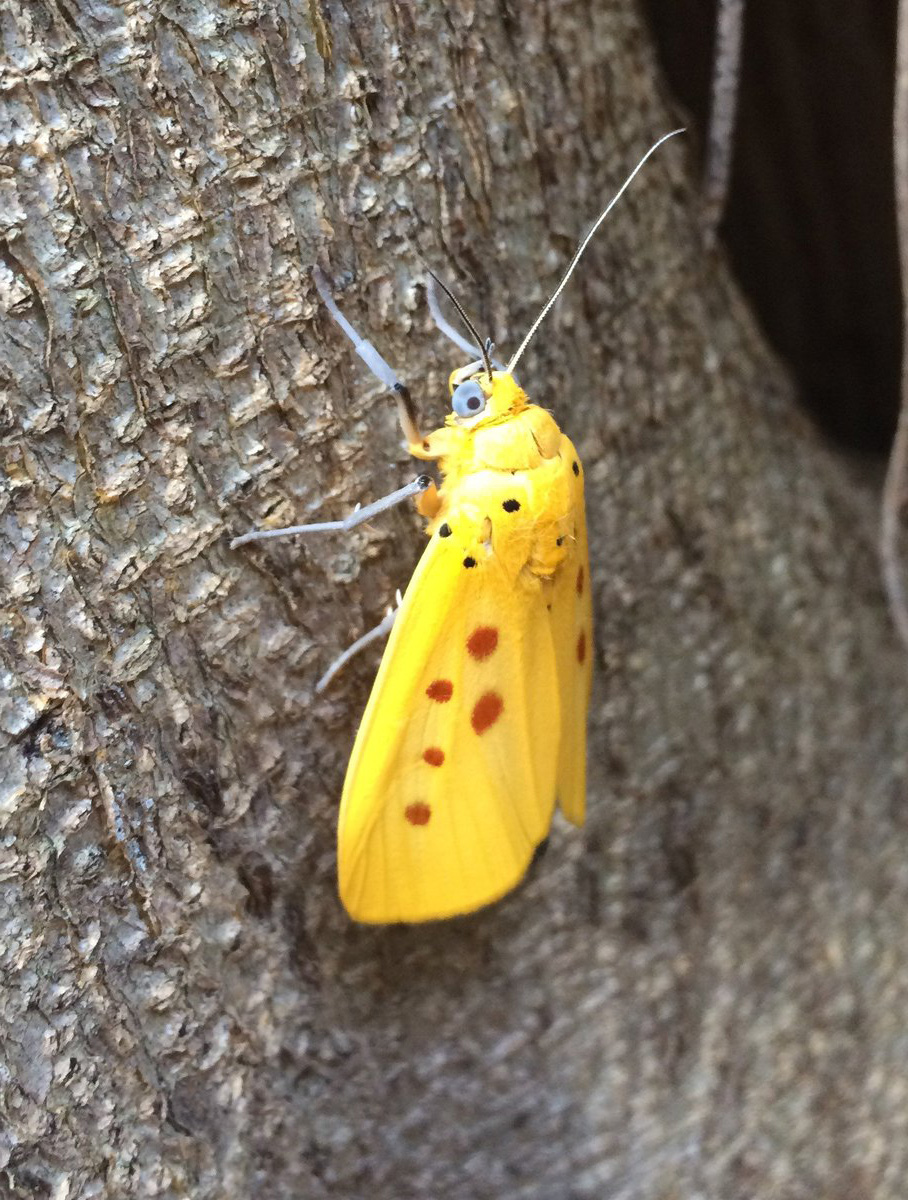Agape chloropyga: (211, 119, 695, 927)
moth: (209, 117, 693, 925)
